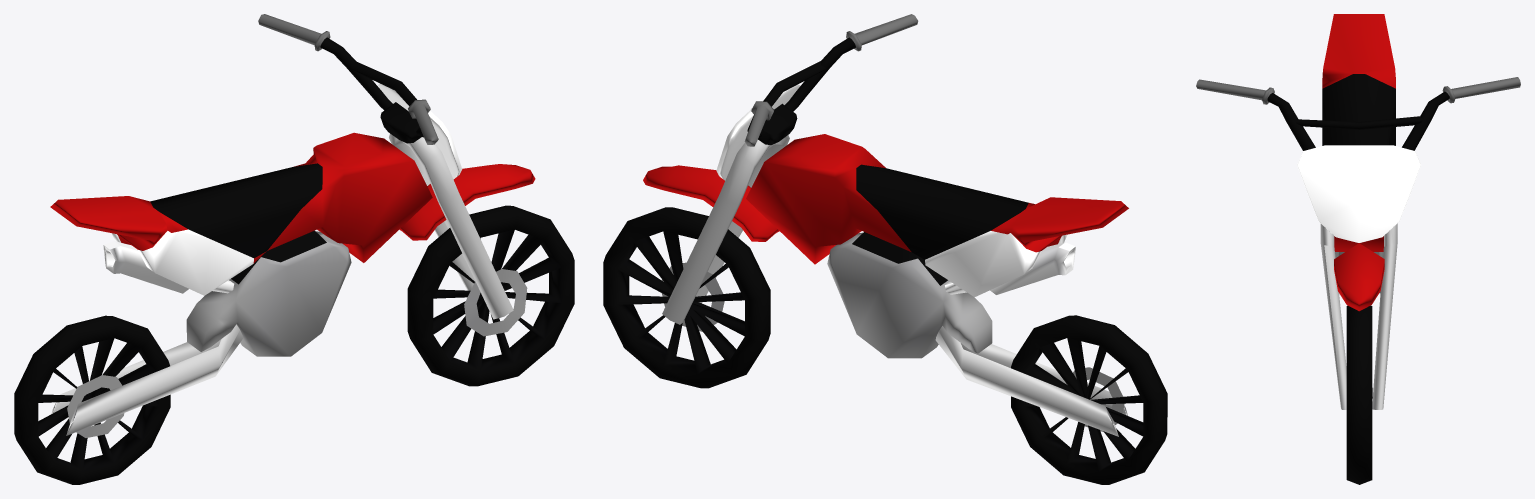
The model's file is DirtBike125ccRed.glb.
The picture shows the model from 3 angles, left to right: view 1: azimuth 30°, elevation 25°; view 2: azimuth 150°, elevation 25°; view 3: azimuth 270°, elevation 25°; orthographic projection. The views are drawn at different scales.
Visible parts, largest first — view 1: DirtBike125ccRed; view 2: DirtBike125ccRed; view 3: DirtBike125ccRed.
Part boxes in pixels (x1,y1,x2,y2): DirtBike125ccRed: (14,14,574,484); DirtBike125ccRed: (603,14,1167,484); DirtBike125ccRed: (1196,14,1520,484).
Size of the model in its own units: 1.92 by 1.13 by 1.01.
Materials: 1 (1 with a texture image).
